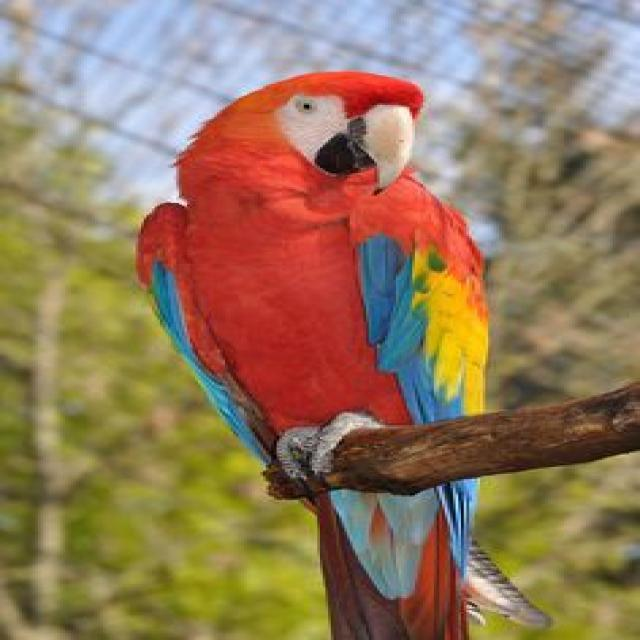Herbivorous: (136, 70, 551, 640)
